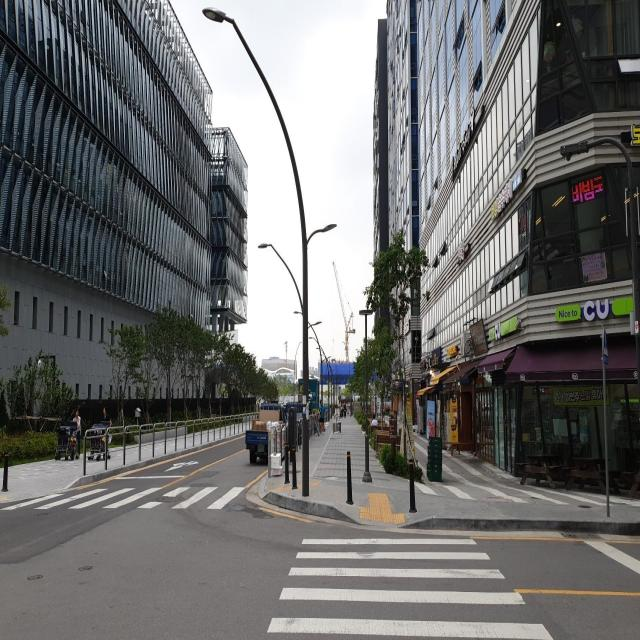빨간불: (34, 481, 248, 512)
횡단보도: (266, 537, 554, 640)
